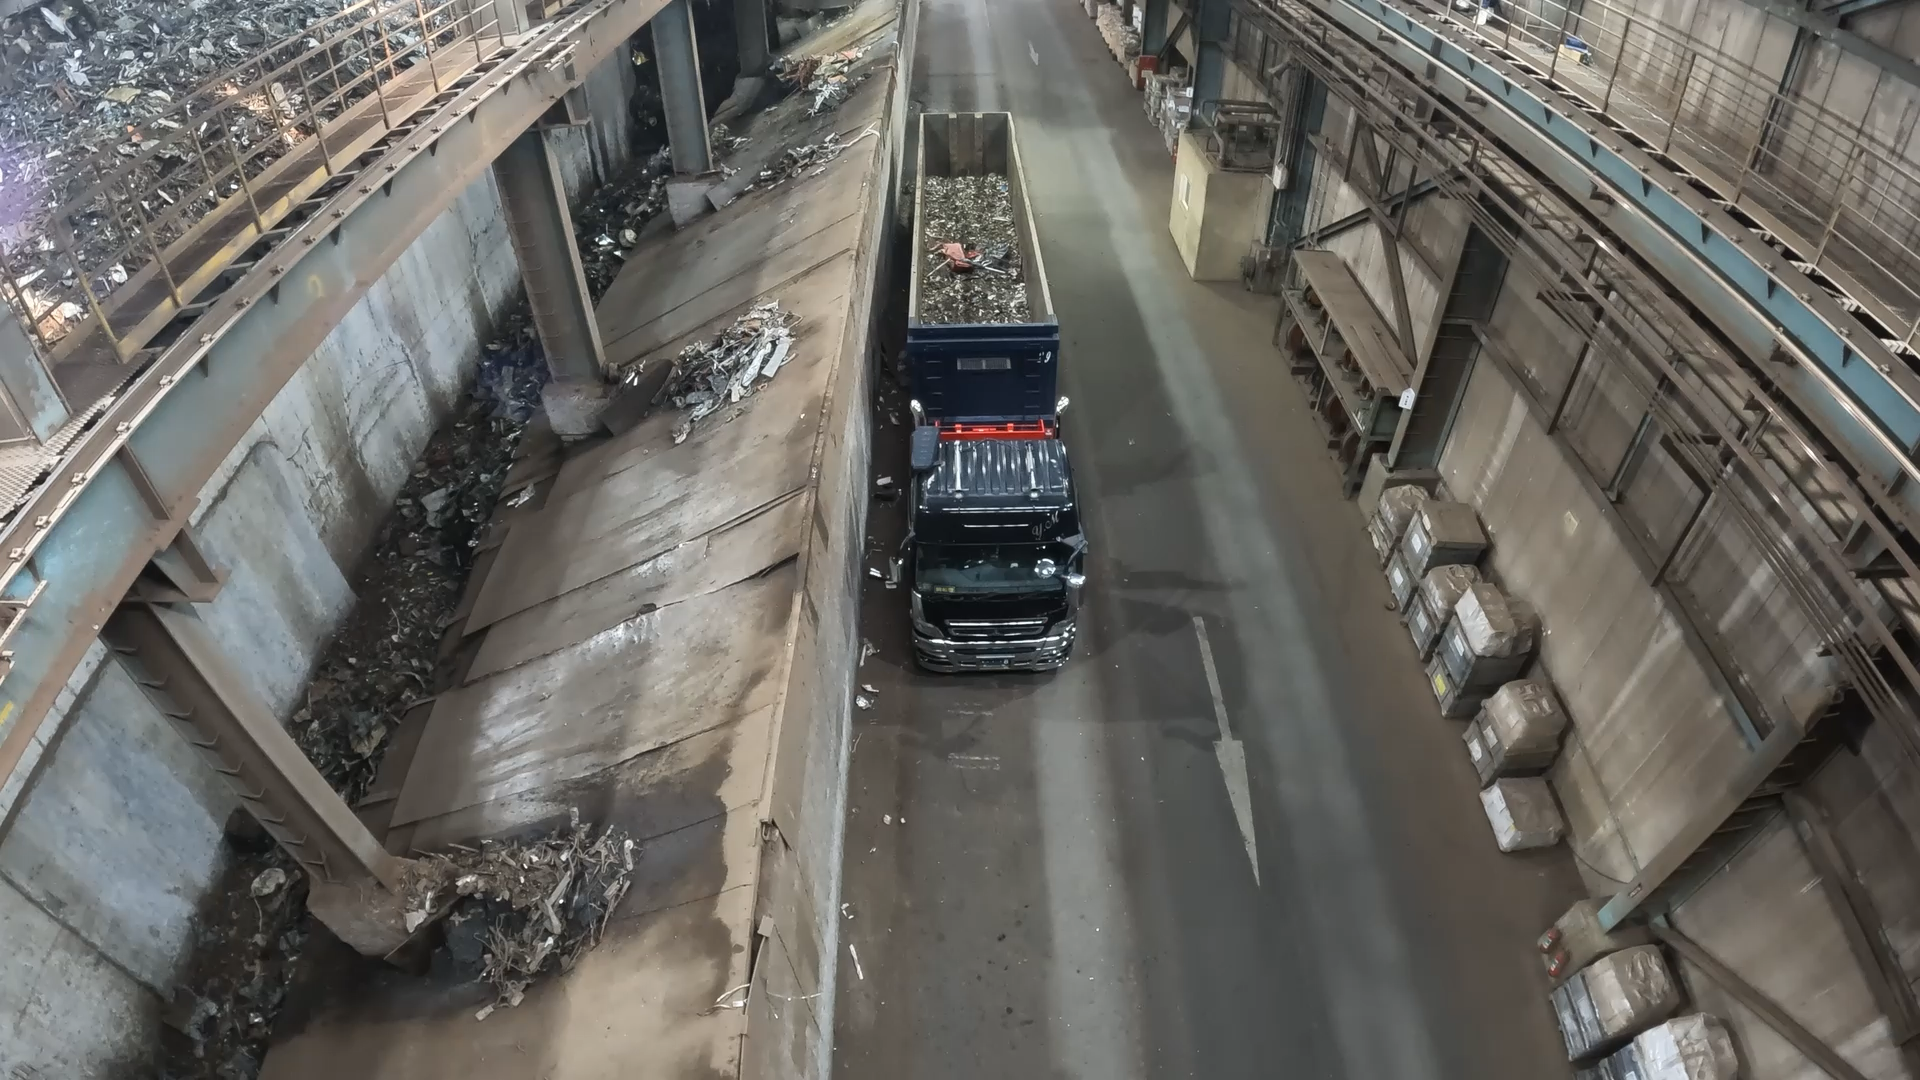truck: (913, 111, 1055, 326)
